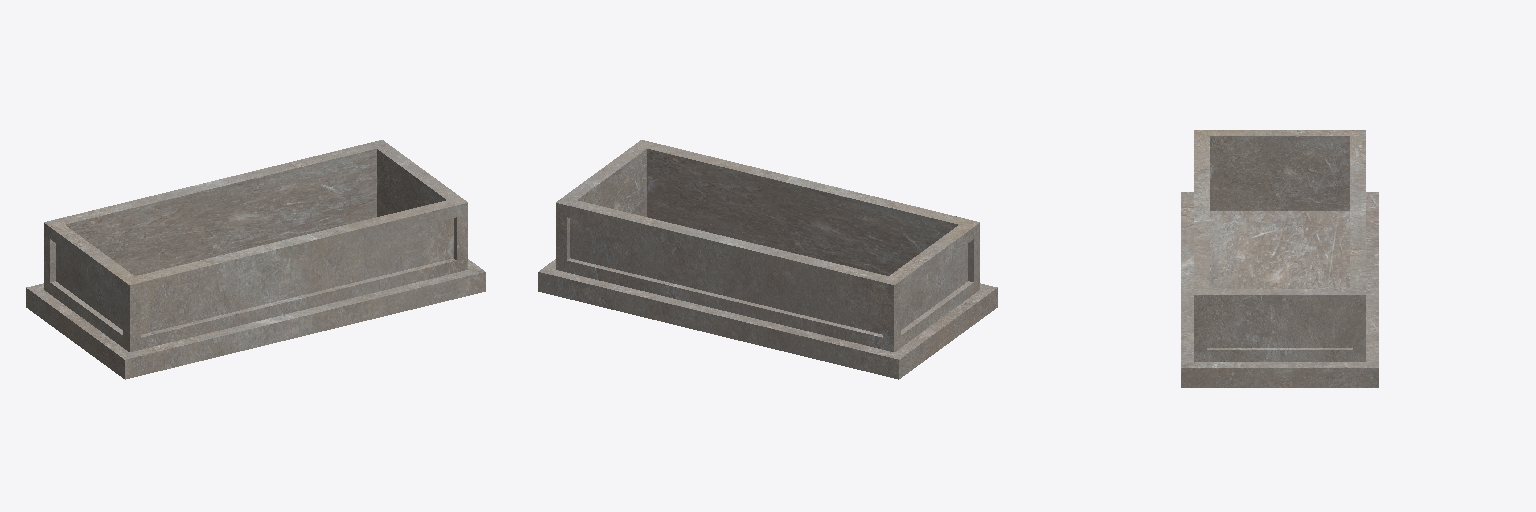
3 renders of one model, left to right at view 1: azimuth 30°, elevation 25°; view 2: azimuth 150°, elevation 25°; view 3: azimuth 270°, elevation 25°, orthographic.
Parts seen in each view (by area): view 1: crypt; view 2: crypt; view 3: crypt.
Part boxes in pixels (left/top/right/bottom): crypt: left=26, top=140, right=485, bottom=379; crypt: left=538, top=140, right=997, bottom=379; crypt: left=1181, top=130, right=1378, bottom=387.
Size of the model in its own units: 41.66 by 9.6 by 19.74.
Materials: 1 (1 with a texture image).